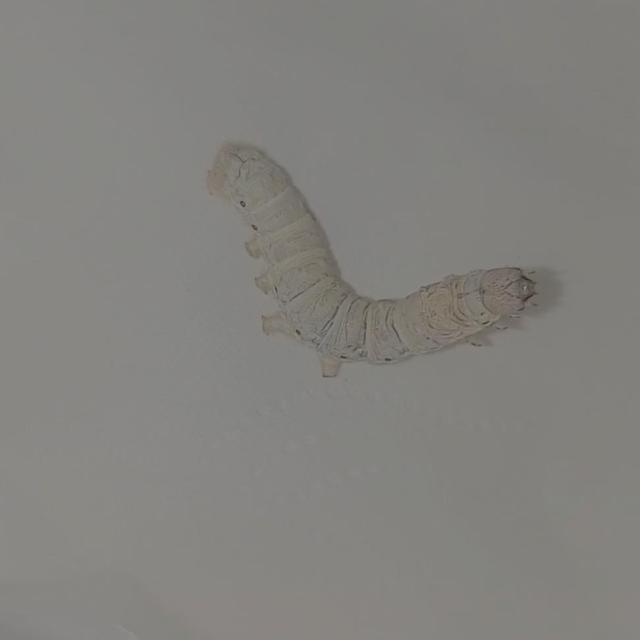Healthy: (194, 100, 568, 402)
